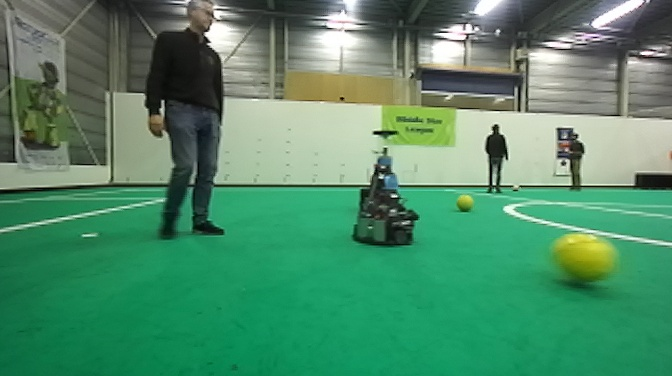ball: (548, 228, 622, 291), (454, 192, 474, 214), (510, 182, 521, 192), (557, 141, 567, 152)
human: (140, 1, 228, 240), (482, 122, 511, 194), (565, 128, 586, 191)
robot: (350, 130, 419, 247), (358, 150, 399, 214)
